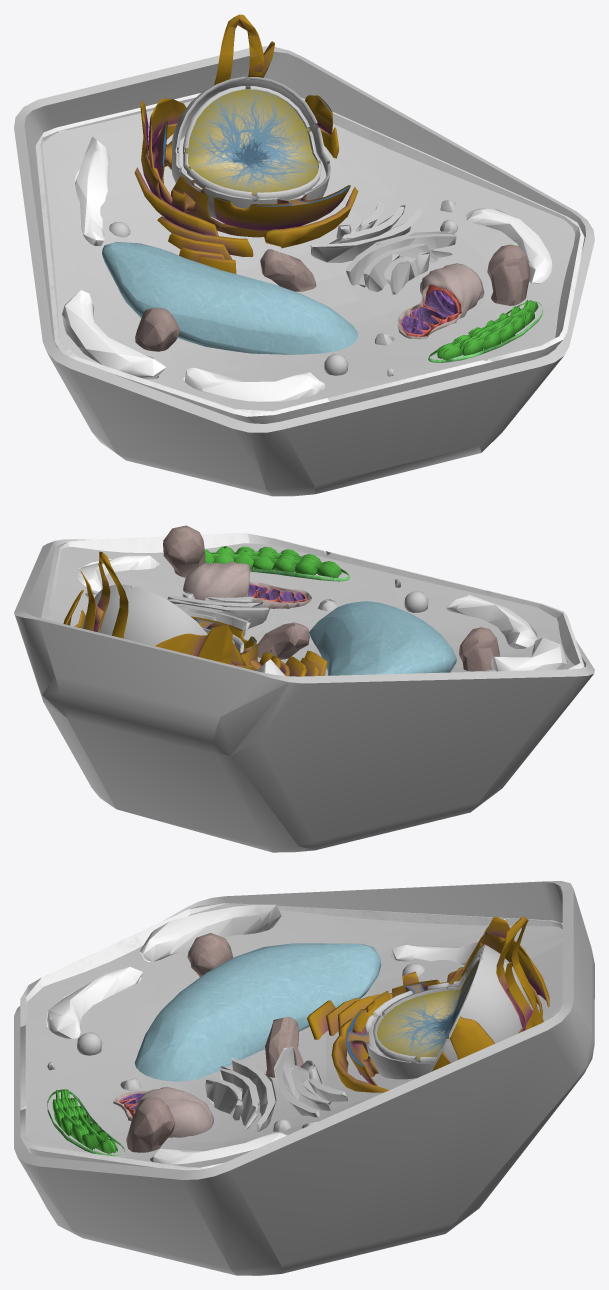
The model's file is Plant cell.fbx.
3 renders of one model, top to bottom at view 1: azimuth 30°, elevation 25°; view 2: azimuth 150°, elevation 25°; view 3: azimuth 270°, elevation 25°, orthographic. The views are drawn at different scales.
Parts seen in each view (by area): view 1: CellWall, Cytoplasm_00, CentralVacuole_type00, ReticulumSmooth, PlasmaMembrane, NuclearNucleolus, GolgiApparatus_type00, ChloroplastMembrane, NuclearEnvelope_01, ReticulumRough, NuclearEnvelope_00, ChloroplastMembrane_3 (+9 smaller); view 2: CellWall, Cytoplasm_00, CentralVacuole_type00, PlasmaMembrane, ReticulumSmooth, NuclearEnvelope_00, MitochondrionSliceOuterMembrane, GolgiApparatus_type00, ChloroplastGranum, ChloroplastMembrane_3, MitochondrionOuterMembrane_00, ChloroplastMembrane (+7 smaller); view 3: CellWall, Cytoplasm_00, CentralVacuole_type00, ReticulumSmooth, PlasmaMembrane, GolgiApparatus_type00, NuclearEnvelope_00, NuclearNucleolus, ChloroplastMembrane, ChloroplastMembrane_3, MitochondrionSliceOuterMembrane, MitochondrionOuterMembrane_00 (+9 smaller).
Part boxes in pixels (box(x1,y1,x2,y2)): CellWall: box(14, 46, 594, 496); Cytoplasm_00: box(42, 101, 575, 411); CentralVacuole_type00: box(102, 242, 357, 354); ReticulumSmooth: box(134, 14, 358, 273); PlasmaMembrane: box(35, 93, 584, 423); NuclearNucleolus: box(185, 89, 319, 194); GolgiApparatus_type00: box(310, 202, 457, 294); ChloroplastMembrane: box(62, 290, 166, 379); NuclearEnvelope_01: box(176, 76, 331, 204); ReticulumRough: box(213, 185, 350, 230); NuclearEnvelope_00: box(171, 76, 329, 219); ChloroplastMembrane_3: box(184, 367, 323, 401); CellWall: box(14, 539, 594, 852); Cytoplasm_00: box(51, 543, 574, 675); CentralVacuole_type00: box(309, 601, 456, 675); PlasmaMembrane: box(41, 533, 584, 669); ReticulumSmooth: box(63, 551, 327, 676); NuclearEnvelope_00: box(82, 584, 240, 652); MitochondrionSliceOuterMembrane: box(183, 561, 312, 608); GolgiApparatus_type00: box(165, 591, 270, 636); ChloroplastGranum: box(204, 546, 341, 577); ChloroplastMembrane_3: box(446, 594, 537, 648); MitochondrionOuterMembrane_00: box(163, 525, 205, 577); ChloroplastMembrane: box(491, 637, 566, 671); CellWall: box(14, 881, 594, 1275); Cytoplasm_00: box(27, 904, 562, 1167); CentralVacuole_type00: box(134, 943, 381, 1081); ReticulumSmooth: box(307, 916, 549, 1092); PlasmaMembrane: box(20, 903, 562, 1170); GolgiApparatus_type00: box(205, 1046, 347, 1131); NuclearEnvelope_00: box(366, 944, 529, 1079); NuclearNucleolus: box(377, 959, 479, 1059); ChloroplastMembrane: box(139, 904, 281, 961); ChloroplastMembrane_3: box(47, 967, 142, 1038); MitochondrionSliceOuterMembrane: box(113, 1087, 213, 1137); MitochondrionOuterMembrane_00: box(126, 1097, 175, 1161).
Size of the model in its own units: 113 by 58.66 by 99.9.
